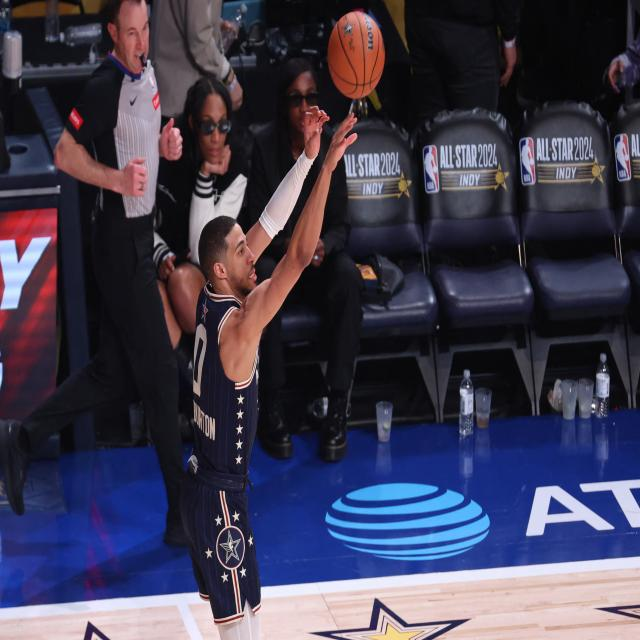basketball: (316, 4, 396, 103)
